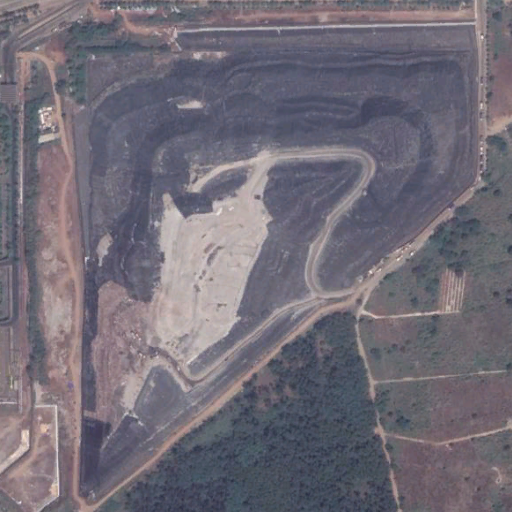lf: (68, 23, 479, 504)
